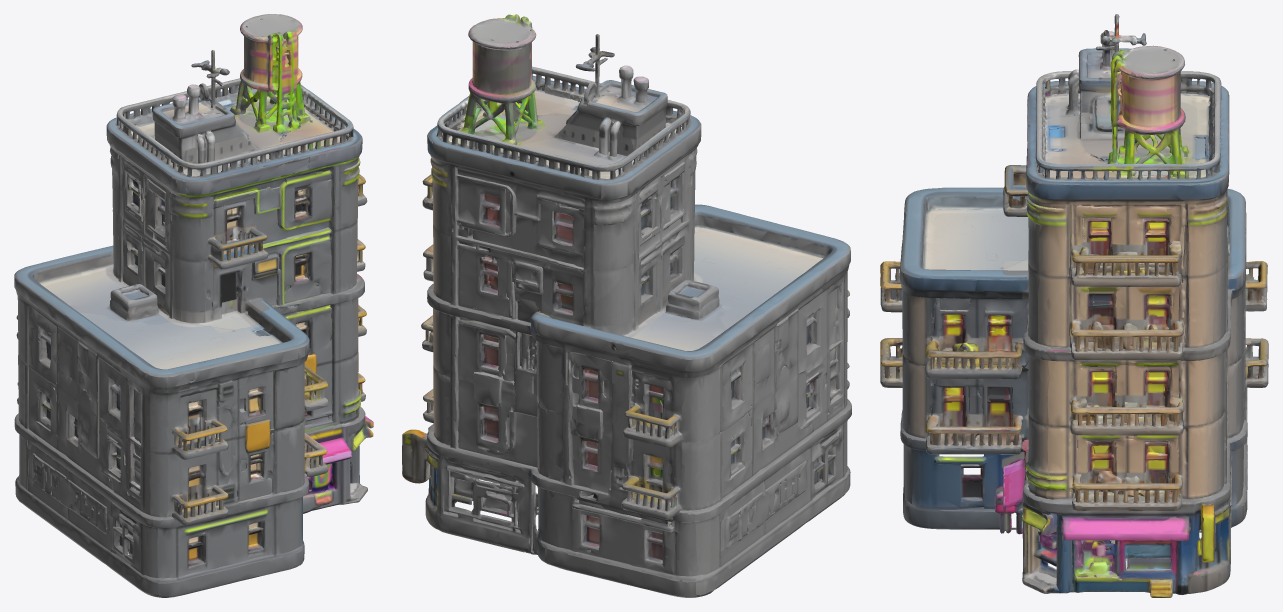
The model's file is u_bld_apartment_c.glb.
3 renders of one model, left to right at view 1: azimuth 30°, elevation 25°; view 2: azimuth 150°, elevation 25°; view 3: azimuth 270°, elevation 25°, orthographic. The views are drawn at different scales.
Visible parts, largest first — view 1: geometry_0; view 2: geometry_0; view 3: geometry_0.
Part boxes in pixels (<box>): geometry_0: <box>14,14,373,597</box>; geometry_0: <box>402,14,851,597</box>; geometry_0: <box>880,14,1268,597</box>.
Size of the model in its own units: 0.3065 by 0.45 by 0.309.
Materials: 1 (1 with a texture image).
